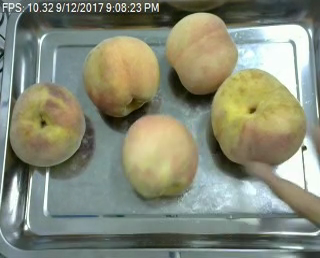Peach: (211, 69, 305, 169), (8, 81, 85, 167), (123, 113, 198, 198), (85, 34, 161, 116), (166, 11, 238, 94)
